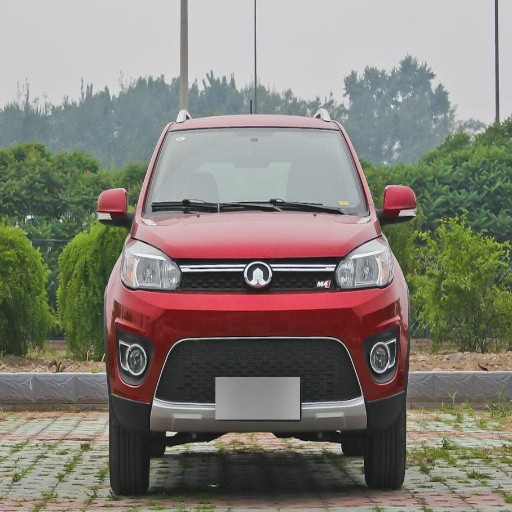front_bumper: (111, 257, 405, 430)
front_right_light: (122, 243, 183, 291)
hood: (133, 212, 378, 262)
left_mirror: (380, 185, 415, 220)
